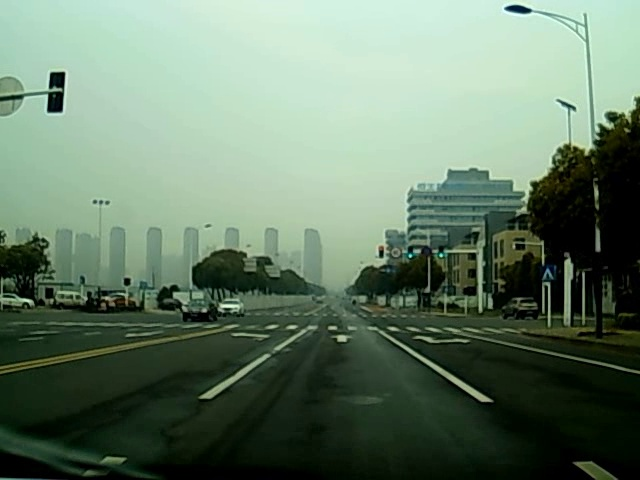Traffic_Light_go: (406, 246, 414, 261), (439, 245, 445, 261)
Traffic_Light_stop: (378, 245, 386, 260)
